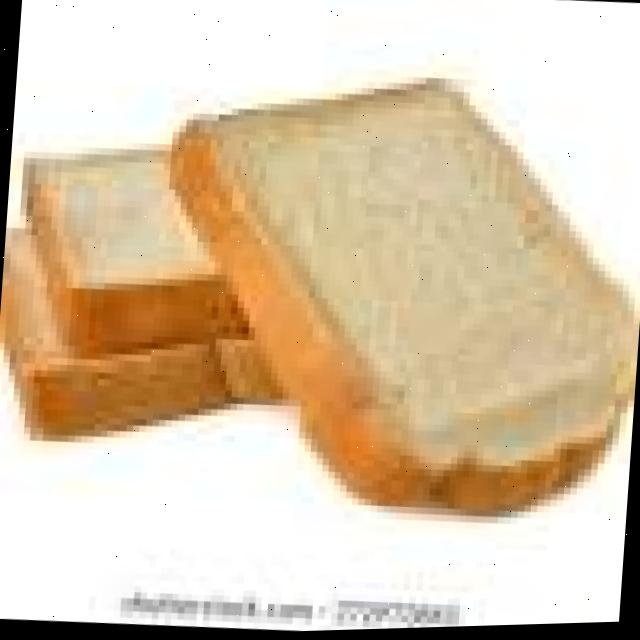Bread: (171, 83, 626, 514), (25, 151, 215, 289)
